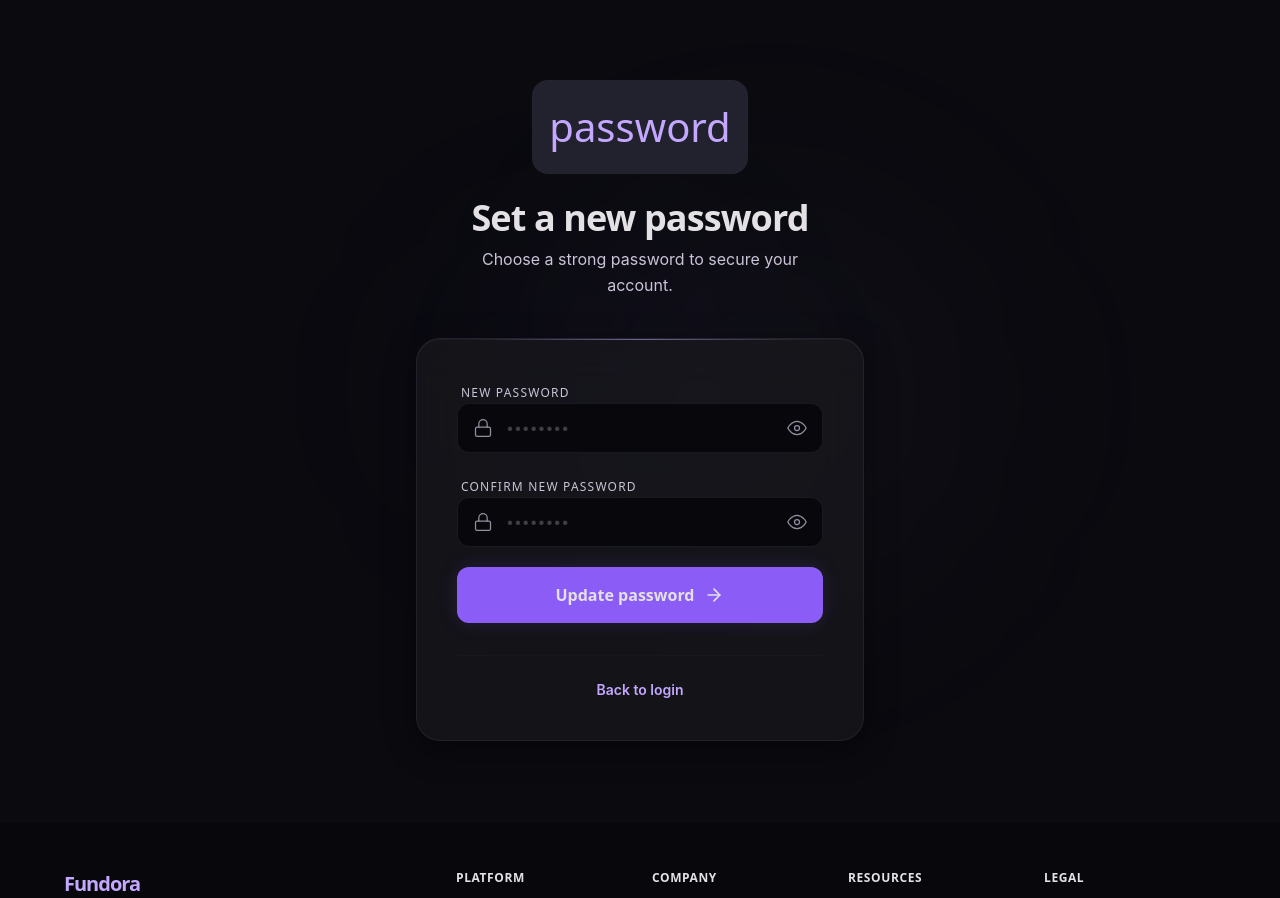
ResetPasswordPage › rejects mismatched passwords
Type "newpass123" into the password field labelled "New Password". click: (640, 428)
box: [457, 403, 823, 453]
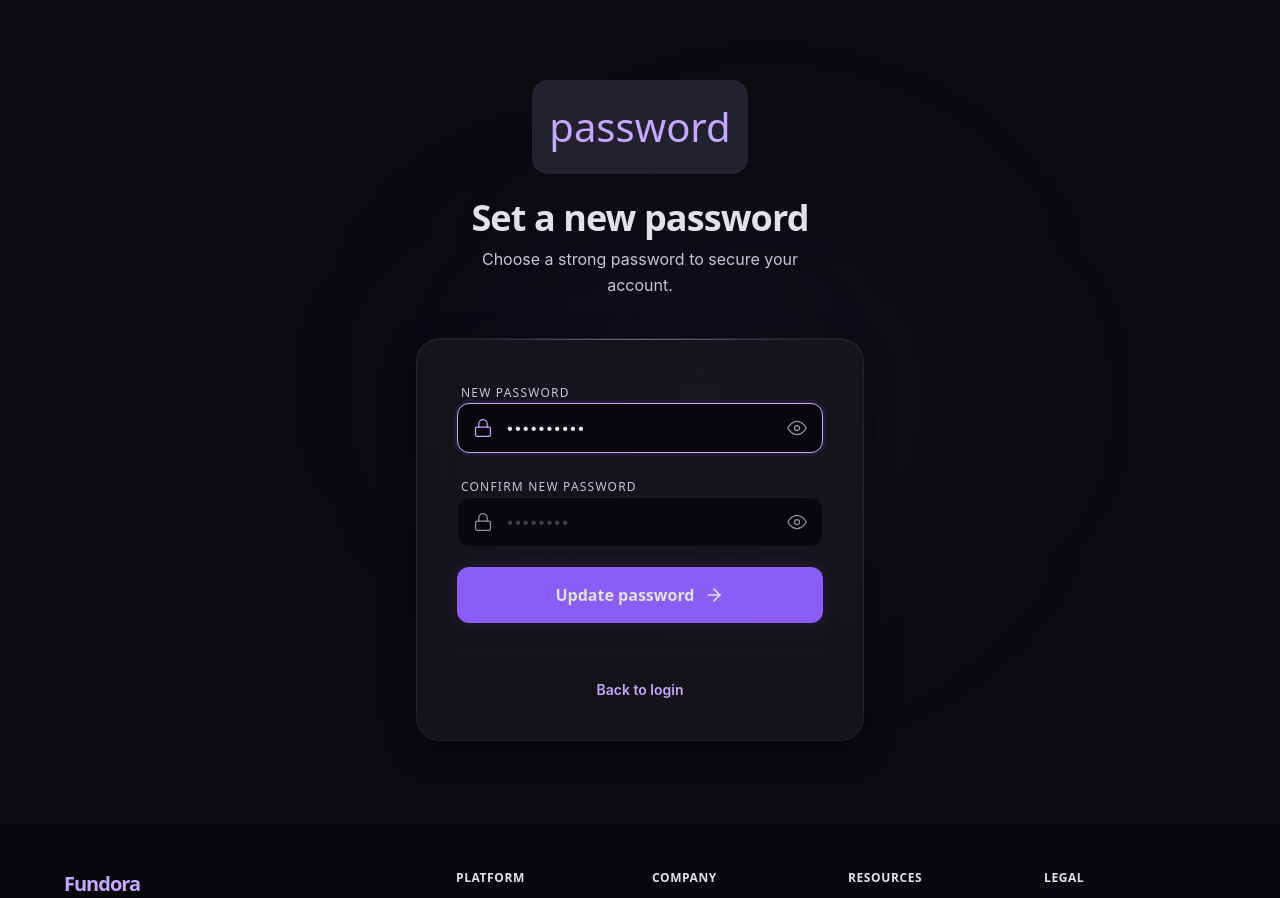
Type "different1" into the password field labelled "Confirm New Password". click: (640, 522)
box: [457, 497, 823, 547]
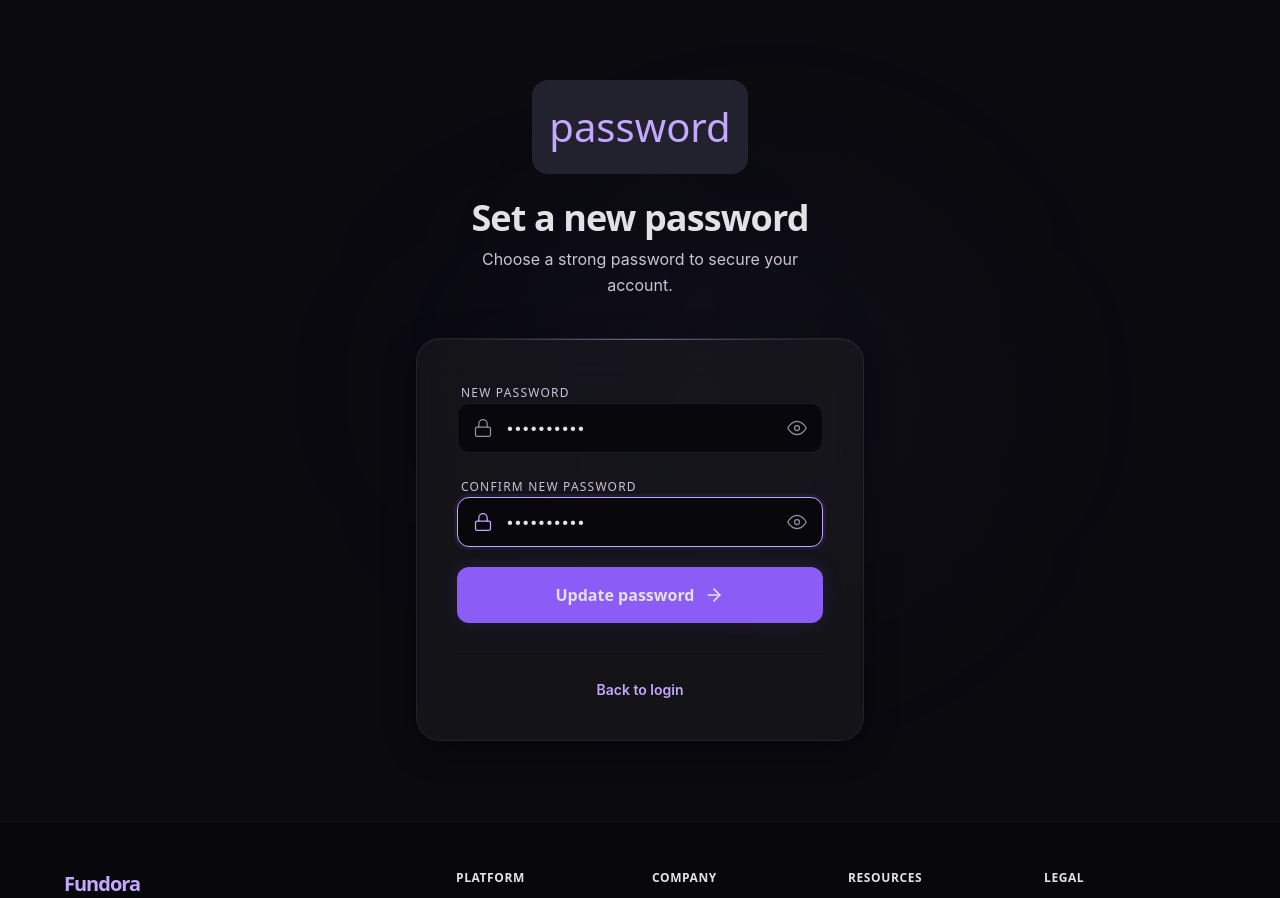
Click the button "Update password". click: (640, 595)
box: [457, 567, 823, 623]
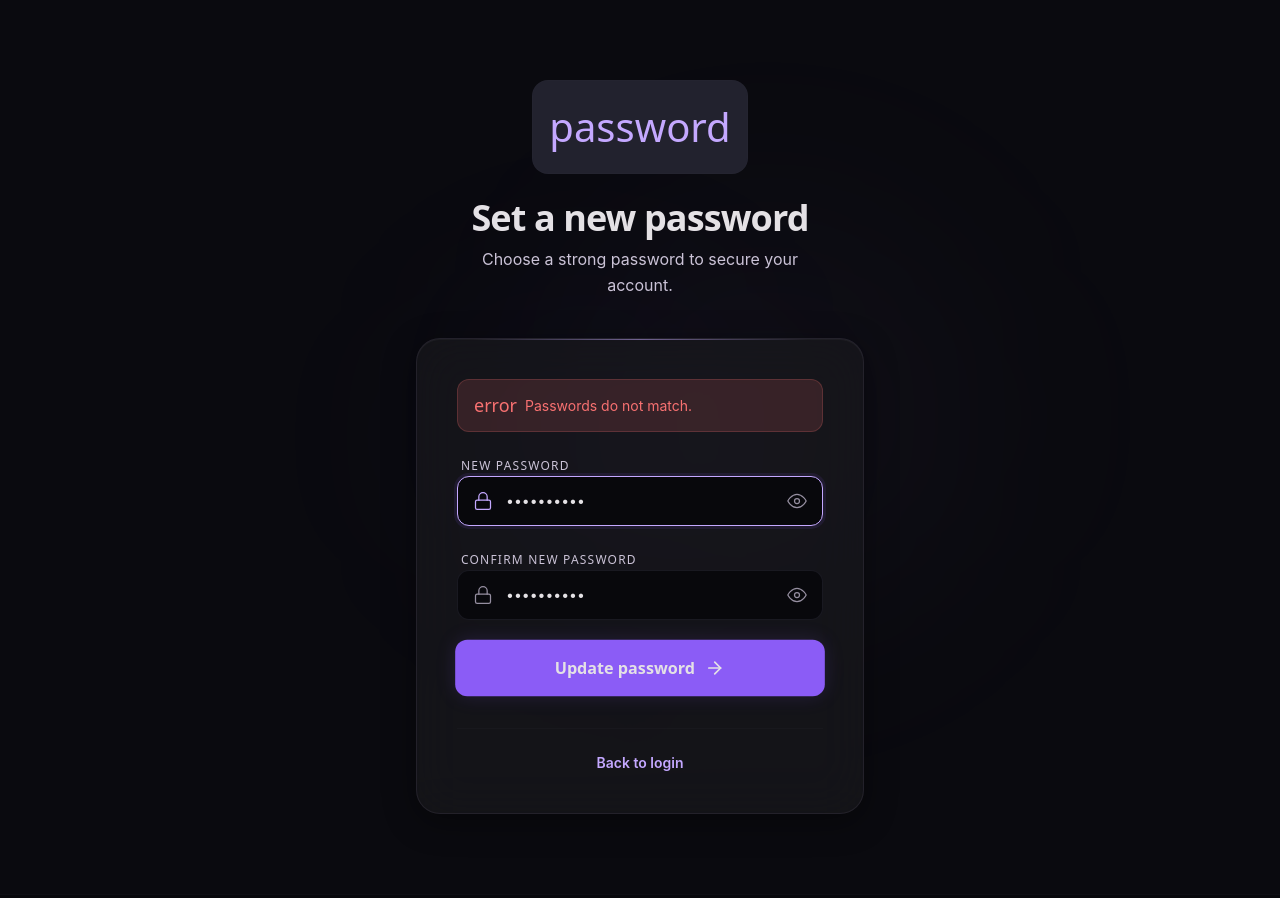
Now the text "Passwords do not match." is shown, box [525, 396, 692, 416]
